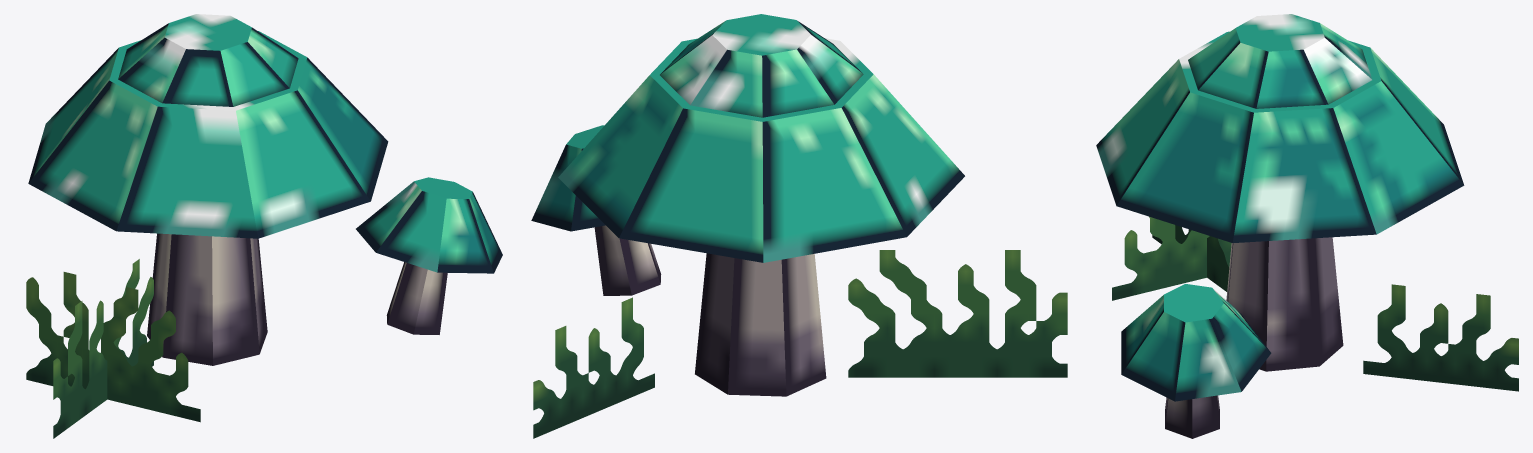
Rendered from glowcap_mushroom.obj.
3 views of the same model, side by side, from view 1: azimuth 30°, elevation 25°; view 2: azimuth 150°, elevation 25°; view 3: azimuth 270°, elevation 25° (orthographic). The views are drawn at different scales.
Visible parts, largest first — view 1: cap, stem, crown, tuft_b, baby_cap, tuft_a, baby_stem; view 2: cap, stem, tuft_a, crown, tuft_c, baby_stem, baby_cap; view 3: cap, crown, baby_cap, stem, tuft_c, tuft_b, baby_stem, tuft_a.
Part boxes in pixels (left/top/right/bottom): cap: left=28, top=31, right=388, bottom=238; stem: left=147, top=233, right=267, bottom=365; crown: left=118, top=14, right=298, bottom=106; tuft_b: left=26, top=272, right=200, bottom=422; baby_cap: left=356, top=177, right=502, bottom=273; tuft_a: left=53, top=259, right=153, bottom=438; baby_stem: left=386, top=262, right=447, bottom=334; cap: left=558, top=38, right=964, bottom=262; stem: left=695, top=253, right=826, bottom=396; tuft_a: left=848, top=250, right=1067, bottom=377; crown: left=660, top=14, right=863, bottom=117; tuft_c: left=533, top=297, right=654, bottom=438; baby_stem: left=594, top=225, right=661, bottom=295; baby_cap: left=531, top=125, right=605, bottom=231; cap: left=1096, top=31, right=1464, bottom=242; crown: left=1188, top=14, right=1372, bottom=108; baby_cap: left=1121, top=284, right=1271, bottom=401; stem: left=1226, top=237, right=1343, bottom=371; tuft_c: left=1363, top=284, right=1518, bottom=391; tuft_b: left=1112, top=216, right=1231, bottom=300; baby_stem: left=1165, top=395, right=1219, bottom=438; tuft_a: left=1152, top=225, right=1229, bottom=291.
Size of the model in its own units: 18.5 by 11.8 by 14.45.
Materials: 1 (1 with a texture image).
